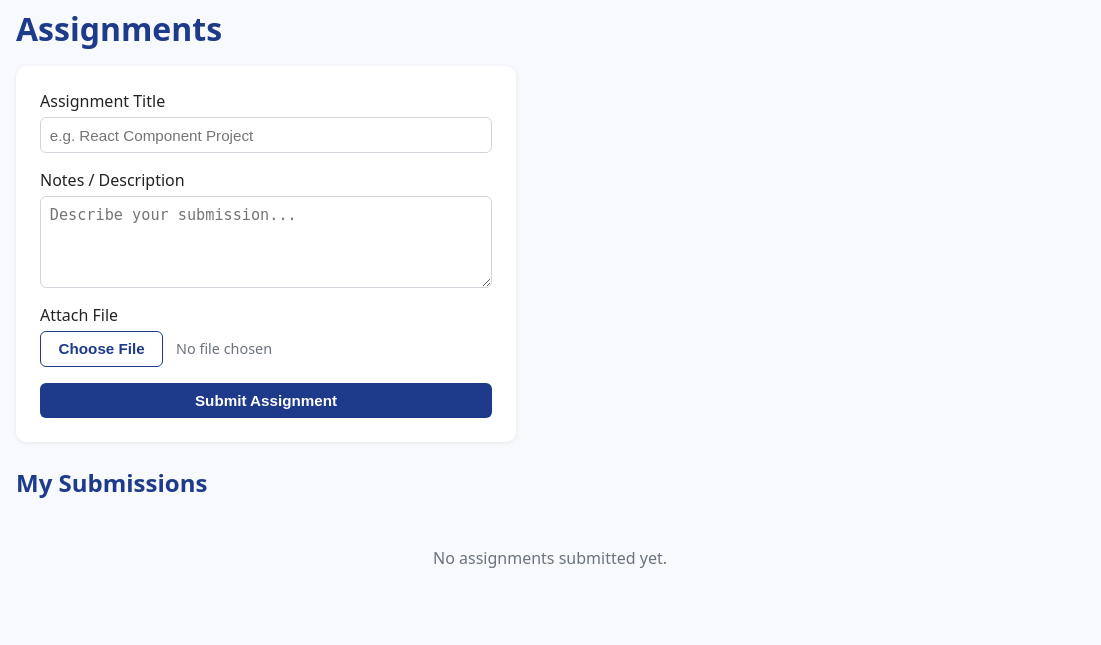
assignment form validates and submits a completed assignment
Click the button "Submit Assignment".
click(266, 400)  # box x1=40 y1=383 x2=492 y2=418
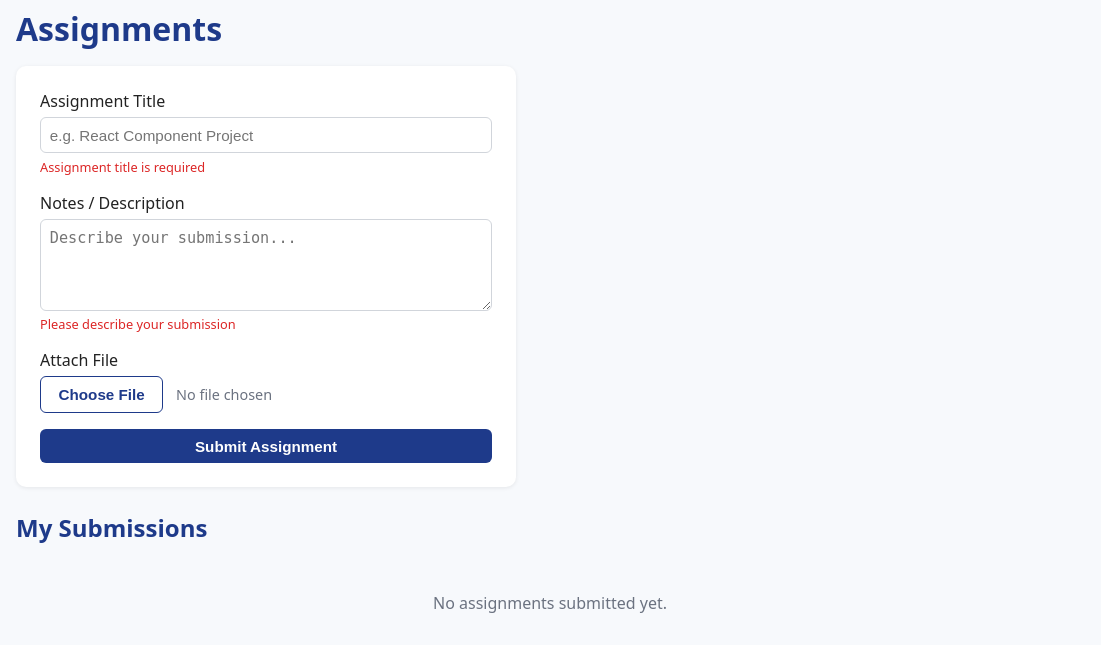
Now the text "Assignment title is required" is shown, box x1=40 y1=158 x2=205 y2=176
Type "React project" into the field labelled "Assignment Title".
click(266, 135); type("React project")  # box x1=40 y1=117 x2=492 y2=153
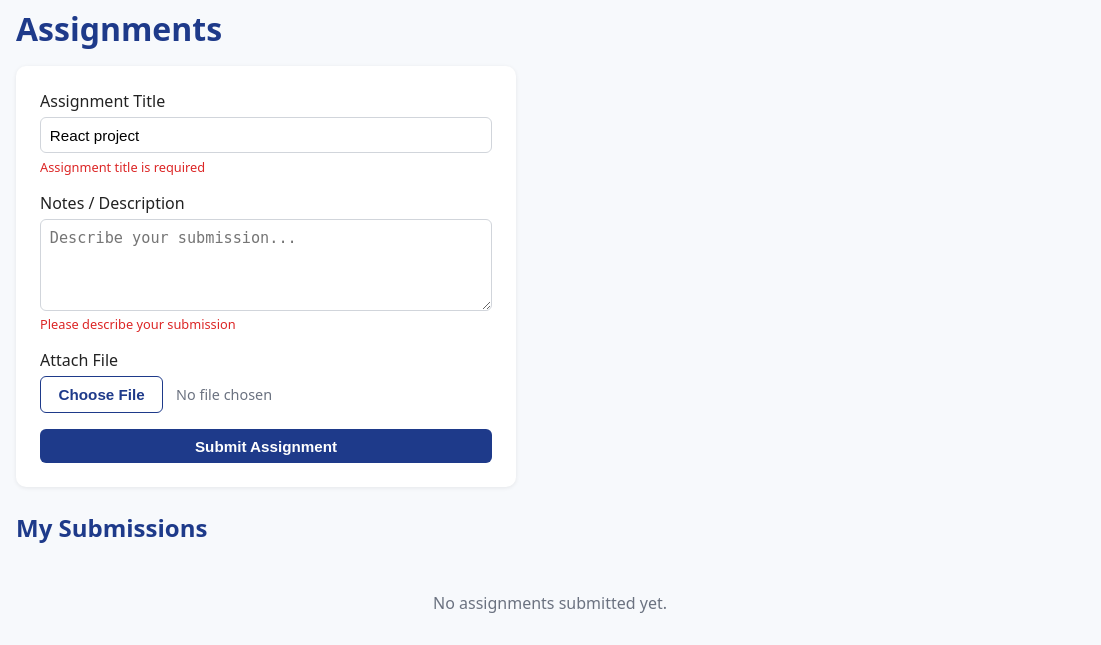
Type "Created reusable course components." into the text box labelled "Notes / Description".
click(266, 265); type("Created reusable course components.")  # box x1=40 y1=219 x2=492 y2=311
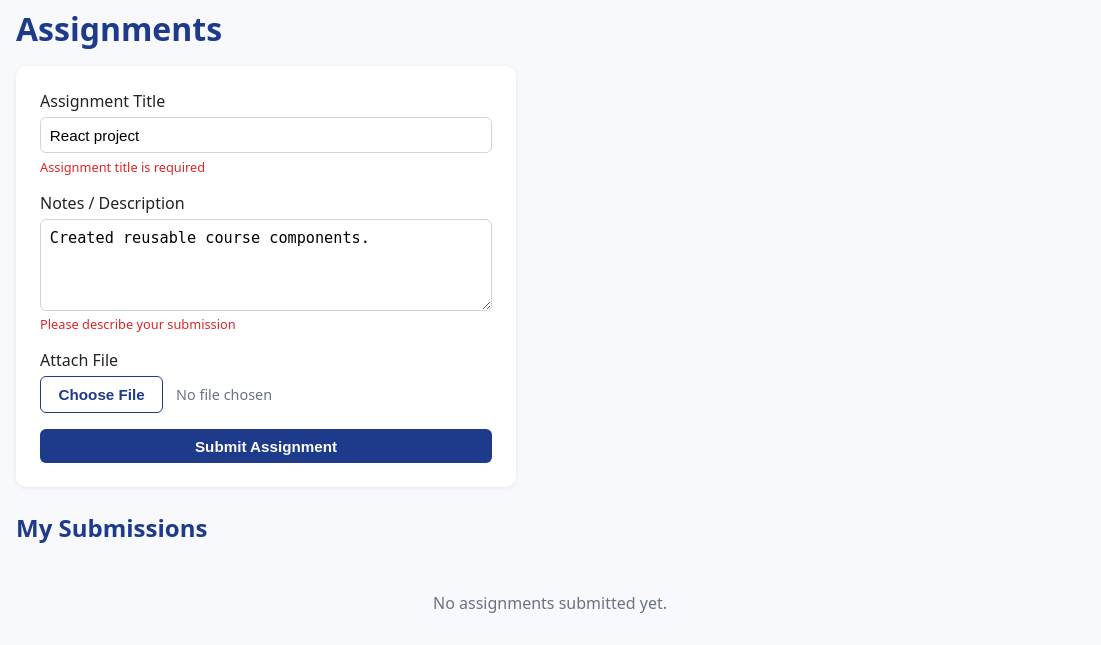
Click the button "Submit Assignment".
click(266, 446)  # box x1=40 y1=429 x2=492 y2=463
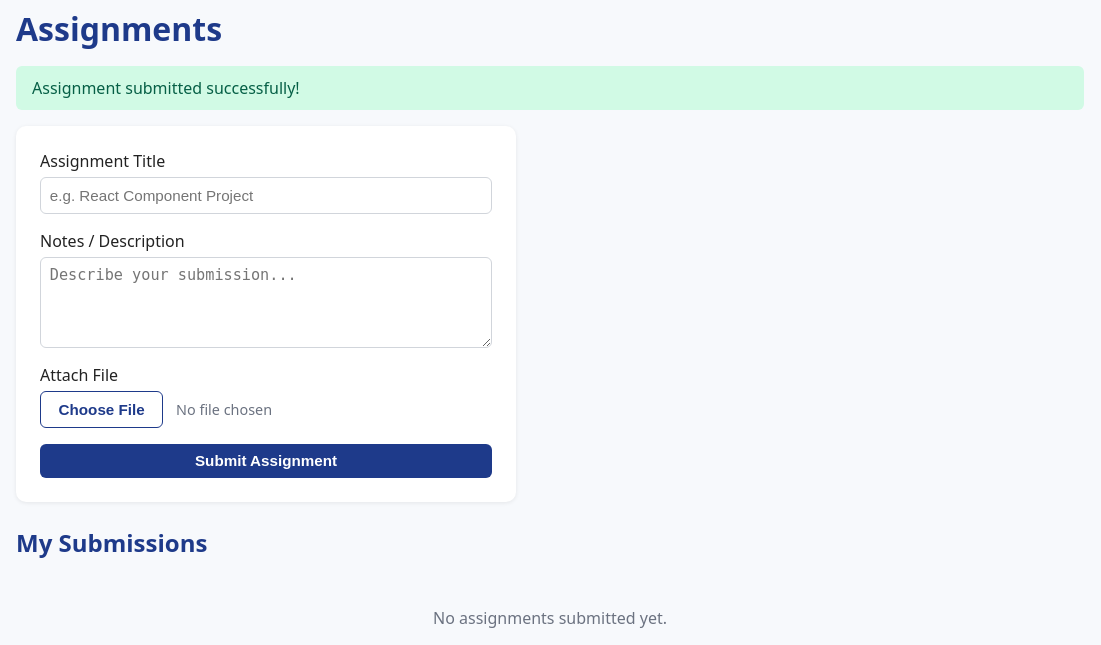
Now the text "Assignment submitted successfully!" is shown, box x1=16 y1=66 x2=1084 y2=110
